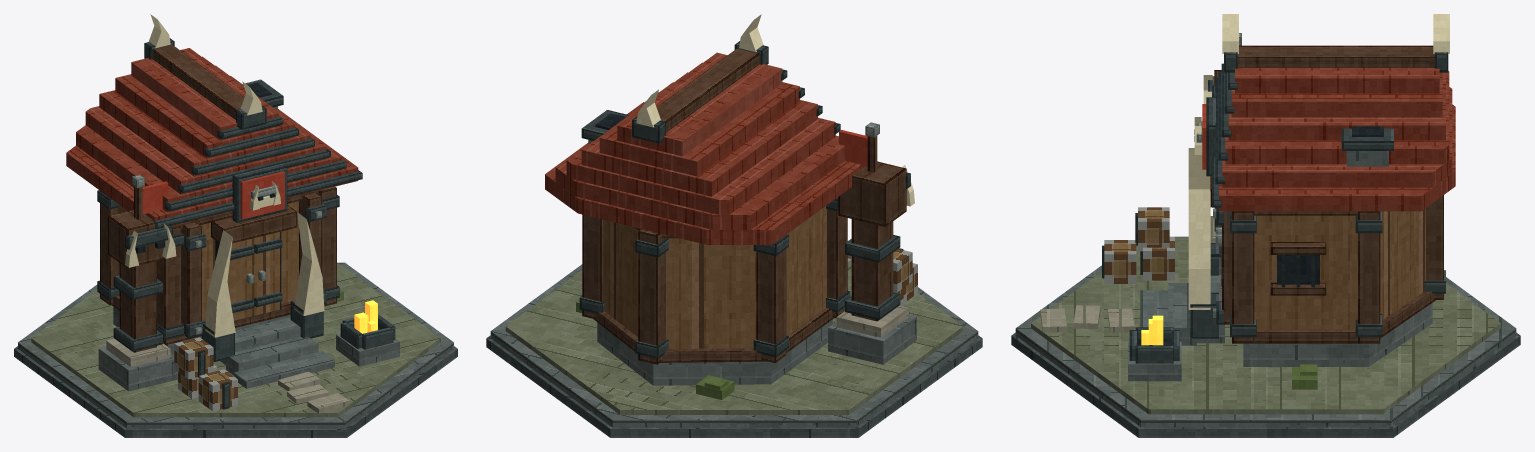
The model's file is orc_city_level_1_hex_v1.glb.
The picture shows the model from 3 angles, left to right: view 1: azimuth 30°, elevation 25°; view 2: azimuth 150°, elevation 25°; view 3: azimuth 270°, elevation 25°; orthographic projection. The views are drawn at different scales.
Visible parts, largest first — view 1: Orc_City_Level_1_Hex_V1_Roofs, Orc_City_Level_1_Hex_V1_Foundation, Orc_City_Level_1_Hex_V1_Architecture, Orc_City_Level_1_Hex_V1_Details, Orc_City_Level_1_Hex_V1_Totem, Orc_City_Level_1_Hex_V1_Courtyard, Orc_City_Level_1_Hex_V1_Keep, Orc_City_Level_1_Hex_V1_Faction; view 2: Orc_City_Level_1_Hex_V1_Roofs, Orc_City_Level_1_Hex_V1_Foundation, Orc_City_Level_1_Hex_V1_Keep, Orc_City_Level_1_Hex_V1_Totem, Orc_City_Level_1_Hex_V1_Architecture, Orc_City_Level_1_Hex_V1_Details, Orc_City_Level_1_Hex_V1_Faction; view 3: Orc_City_Level_1_Hex_V1_Foundation, Orc_City_Level_1_Hex_V1_Roofs, Orc_City_Level_1_Hex_V1_Keep, Orc_City_Level_1_Hex_V1_Architecture, Orc_City_Level_1_Hex_V1_Details, Orc_City_Level_1_Hex_V1_Courtyard, Orc_City_Level_1_Hex_V1_Totem.
Part boxes in pixels (left/top/right/bottom): Orc_City_Level_1_Hex_V1_Roofs: left=66, top=14, right=362, bottom=229; Orc_City_Level_1_Hex_V1_Foundation: left=14, top=262, right=457, bottom=437; Orc_City_Level_1_Hex_V1_Architecture: left=97, top=163, right=339, bottom=362; Orc_City_Level_1_Hex_V1_Details: left=174, top=79, right=395, bottom=411; Orc_City_Level_1_Hex_V1_Totem: left=98, top=174, right=177, bottom=391; Orc_City_Level_1_Hex_V1_Courtyard: left=220, top=317, right=399, bottom=413; Orc_City_Level_1_Hex_V1_Keep: left=112, top=188, right=326, bottom=355; Orc_City_Level_1_Hex_V1_Faction: left=142, top=171, right=284, bottom=219; Orc_City_Level_1_Hex_V1_Roofs: left=545, top=14, right=864, bottom=244; Orc_City_Level_1_Hex_V1_Foundation: left=486, top=258, right=982, bottom=437; Orc_City_Level_1_Hex_V1_Keep: left=593, top=206, right=833, bottom=385; Orc_City_Level_1_Hex_V1_Totem: left=828, top=122, right=916, bottom=364; Orc_City_Level_1_Hex_V1_Architecture: left=579, top=197, right=850, bottom=364; Orc_City_Level_1_Hex_V1_Details: left=576, top=110, right=917, bottom=399; Orc_City_Level_1_Hex_V1_Faction: left=839, top=130, right=867, bottom=166; Orc_City_Level_1_Hex_V1_Foundation: left=1011, top=236, right=1520, bottom=437; Orc_City_Level_1_Hex_V1_Roofs: left=1212, top=14, right=1455, bottom=211; Orc_City_Level_1_Hex_V1_Keep: left=1243, top=208, right=1435, bottom=366; Orc_City_Level_1_Hex_V1_Architecture: left=1190, top=97, right=1445, bottom=343; Orc_City_Level_1_Hex_V1_Details: left=1102, top=117, right=1393, bottom=389; Orc_City_Level_1_Hex_V1_Courtyard: left=1040, top=275, right=1224, bottom=381; Orc_City_Level_1_Hex_V1_Totem: left=1203, top=33, right=1241, bottom=274.
Bounding box in the file's own units: 1.45 × 1.19 × 1.68.
1 material, 1 textured.
